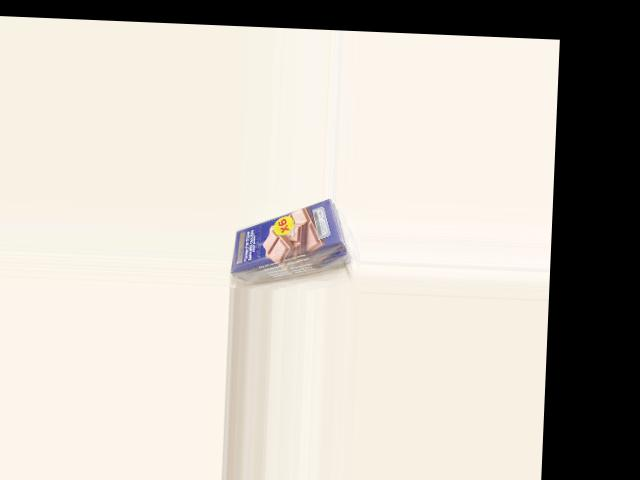chocolate: (230, 193, 345, 285)
